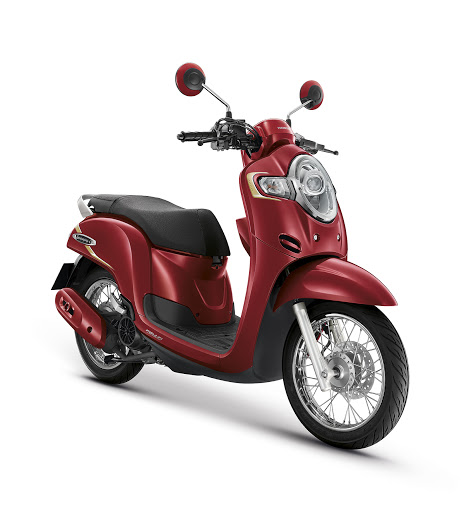motorcycle: (51, 62, 409, 447)
